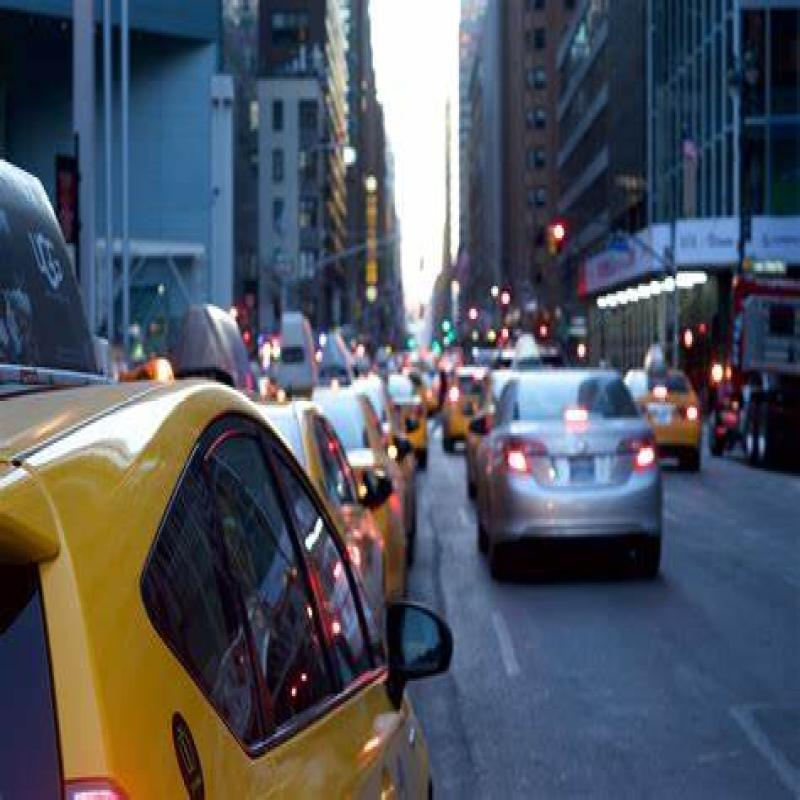car: (0, 378, 453, 800), (489, 378, 650, 549), (629, 340, 701, 464)
